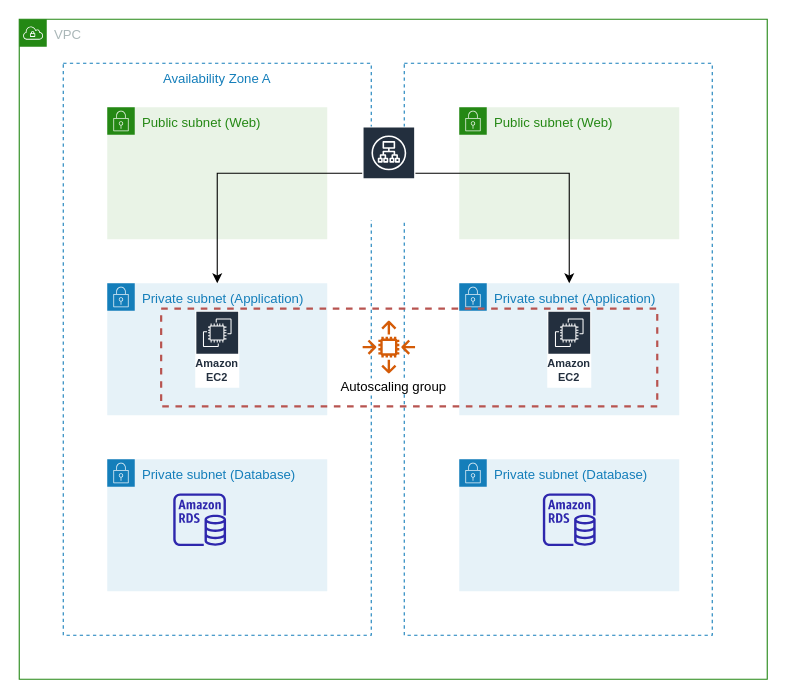
Some shapes in this 787 by 699 pixel diagram are drawn without their labels. Here are the shapes that lost their labels. From the top down, the box of each, then its label:
(361, 125, 415, 220): Application Load Balancer
(403, 62, 712, 635): Availability Zone B
